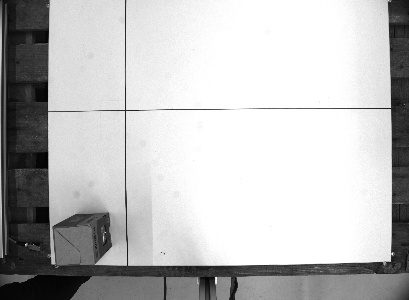b4: (51, 210, 113, 269)
